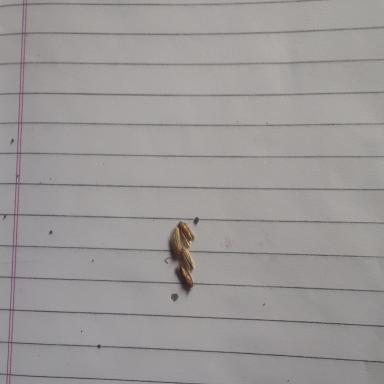pbw: (176, 220, 196, 246), (175, 264, 194, 289), (170, 226, 181, 258), (181, 247, 194, 271)
